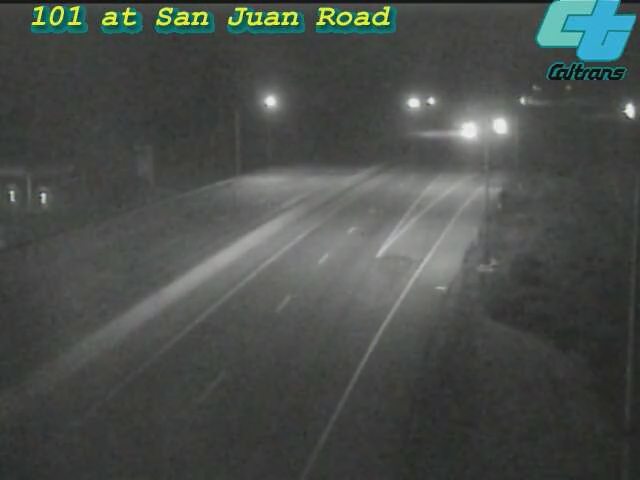vehicle: (443, 105, 493, 155), (473, 102, 523, 152), (605, 86, 640, 136)
